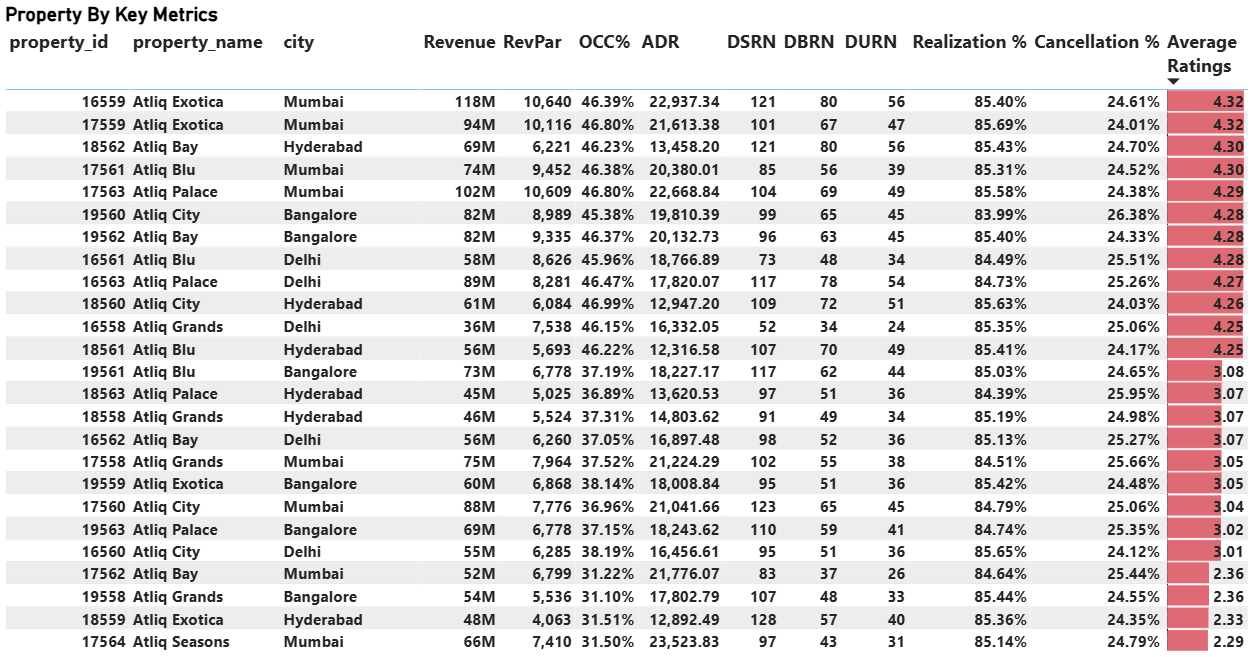

The page's visual inventory and layout, read from the dashboard file:
{"tool":"powerbi","page":{"name":"Property_Performance","canvas":[1920,1080],"ordinal":5},"visuals":[{"type":"tableEx","title":"Property By Key Metrics","fields":{"Values":["dim_hotels.property_id","dim_hotels.property_name","dim_hotels.city","key_metrics.Revenue","key_metrics.RevPar","key_metrics.OCC%","key_metrics.ADR","key_metrics.DSRN(Daily Sellable Room Nights)","key_metrics.DBRN","key_metrics.DURN","key_metrics.Realization %","key_metrics.Cancellation %"]},"box":[16.5,16.5,1876.4,1025.3],"z":0}]}

Visuals, with their boxes on the page's 1920x1080 design canvas (x1, y1, x2, y2). These are canvas units, not pixel positions in the 1252x657 screenshot, which may show the page scaled, cropped or inside an application window:
"Property By Key Metrics" tableEx: {"x1": 16, "y1": 16, "x2": 1893, "y2": 1042}
